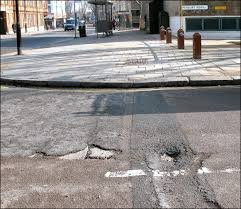pothole: (148, 175, 221, 209), (32, 143, 122, 162), (153, 142, 193, 169)
